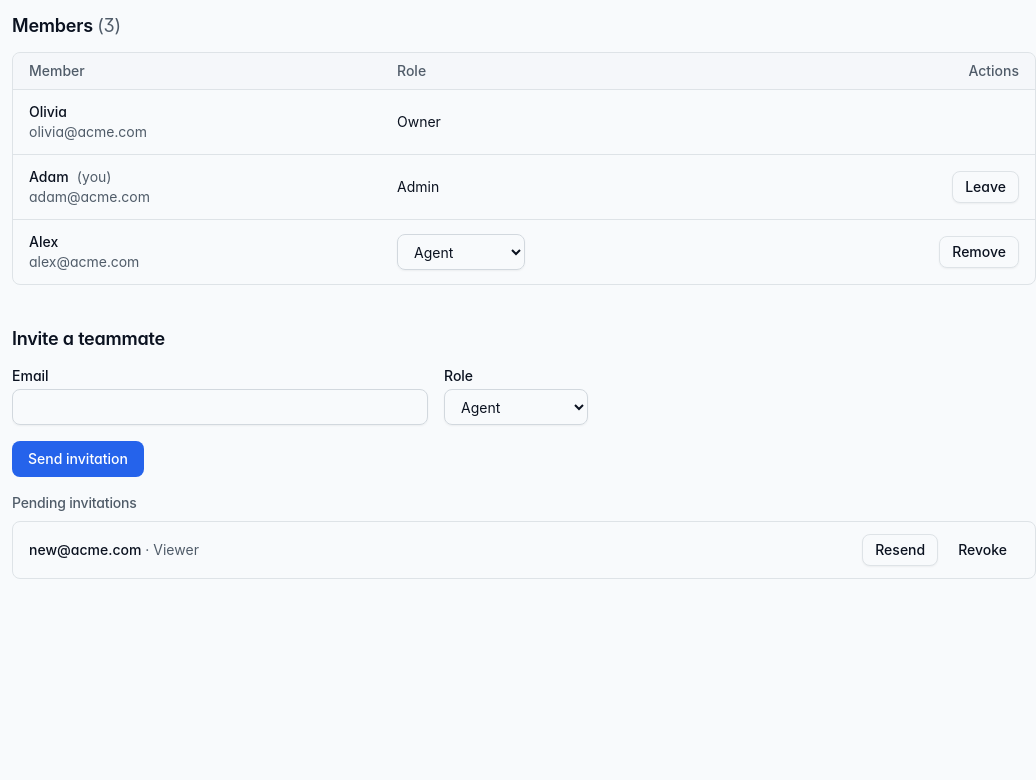
MembersPanel actions › requires explicit confirmation before removing someone
Expected: the text "Alex" is shown, [29,232,58,252]
Step 1. Click the button with aria-label "remove alex" → (979, 252), box [939,236,1019,268]
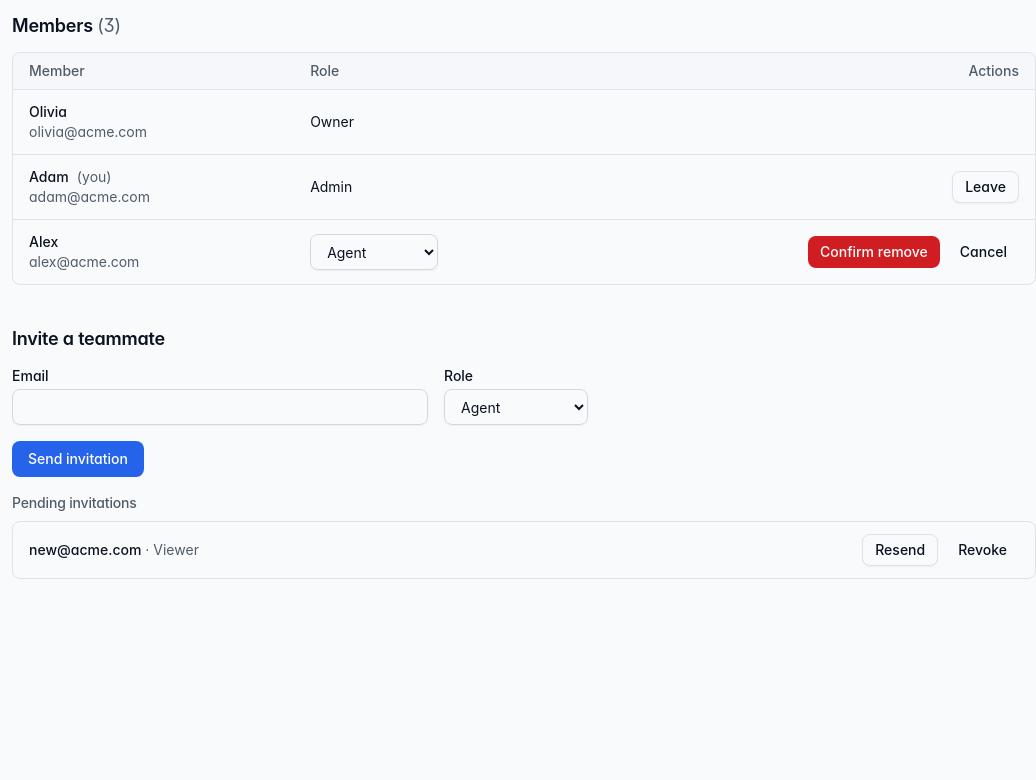
Step 2. Click the button "Confirm remove" → (874, 252), box [808,236,940,268]
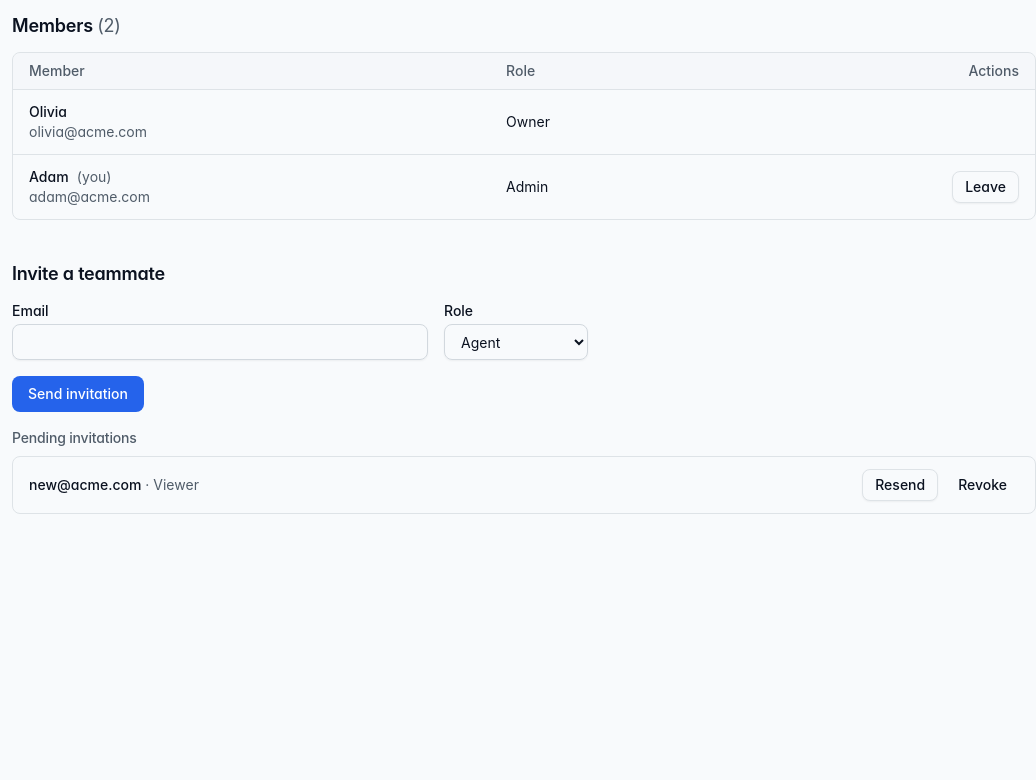
Now the text "Alex" is gone
